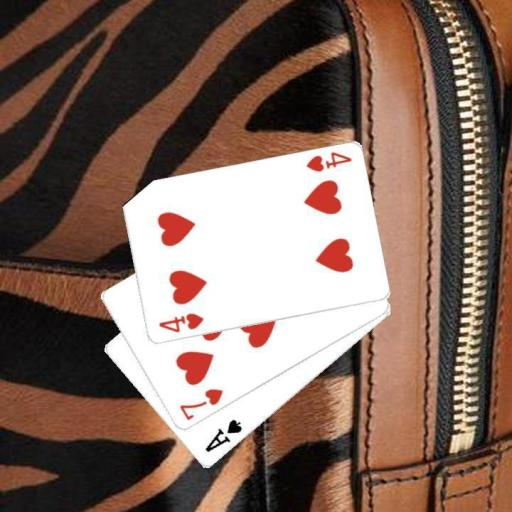card-corner: (176, 386, 224, 422), (202, 417, 244, 454), (155, 310, 205, 335), (303, 149, 353, 174)
